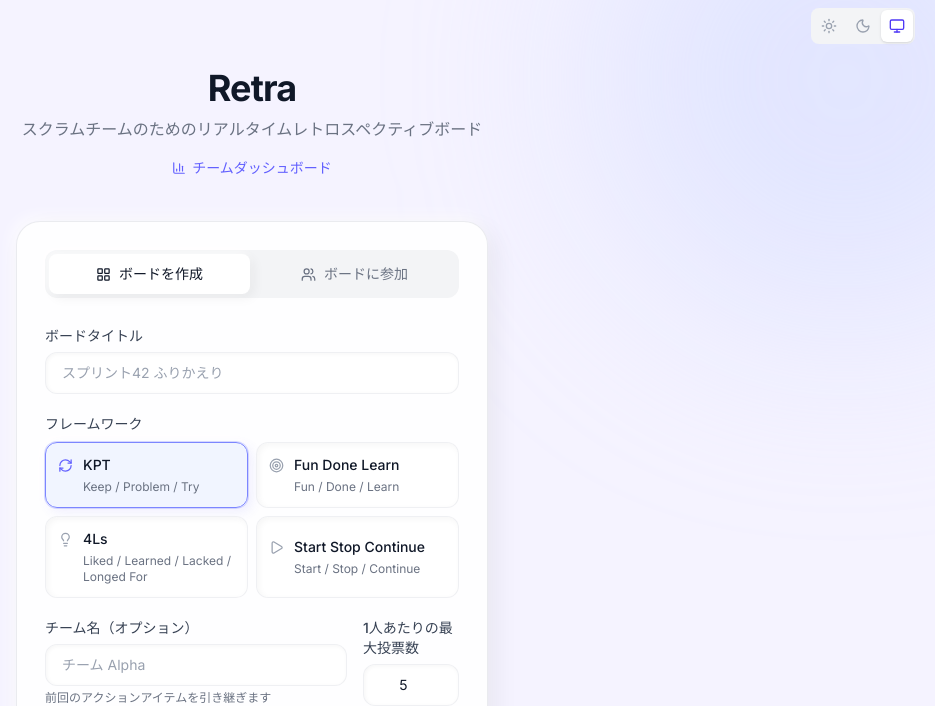
Test: HomePage › create form: shows error when api.createBoard rejects
This screenshot has width=935, height=706.
Fill in the title
Type "テストボード" into the field with placeholder "スプリント42 ふりかえり" at (252, 373), box [45,352,459,394]
(page scrolled)
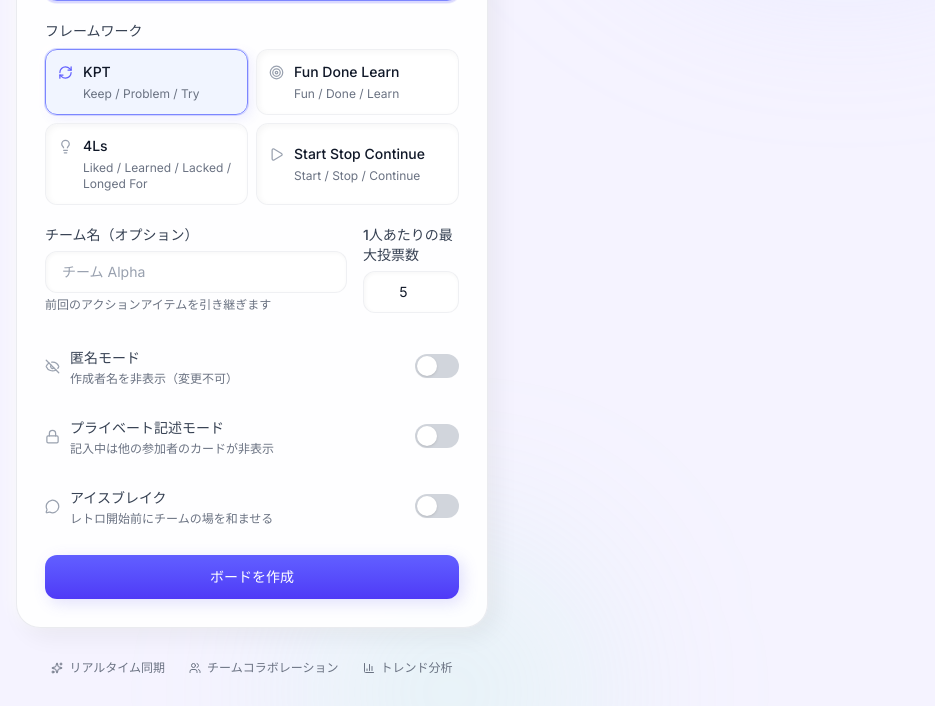
Click the button "ボードを作成" at (252, 577), box [45,555,459,599]
(page scrolled)
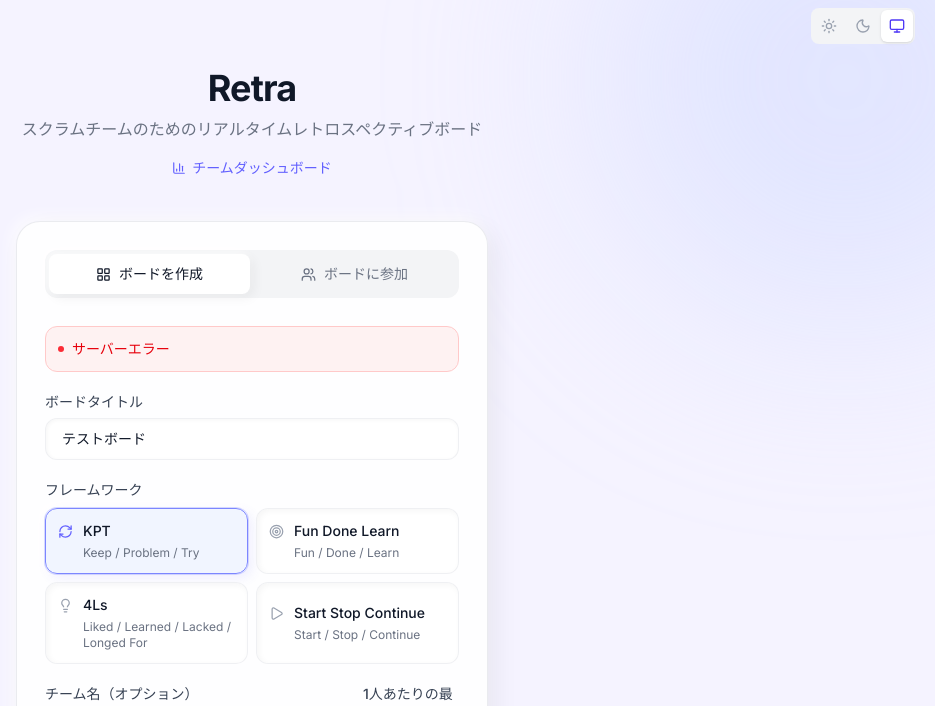
Check: the text "サーバーエラー" is shown, box [45,326,459,372]
